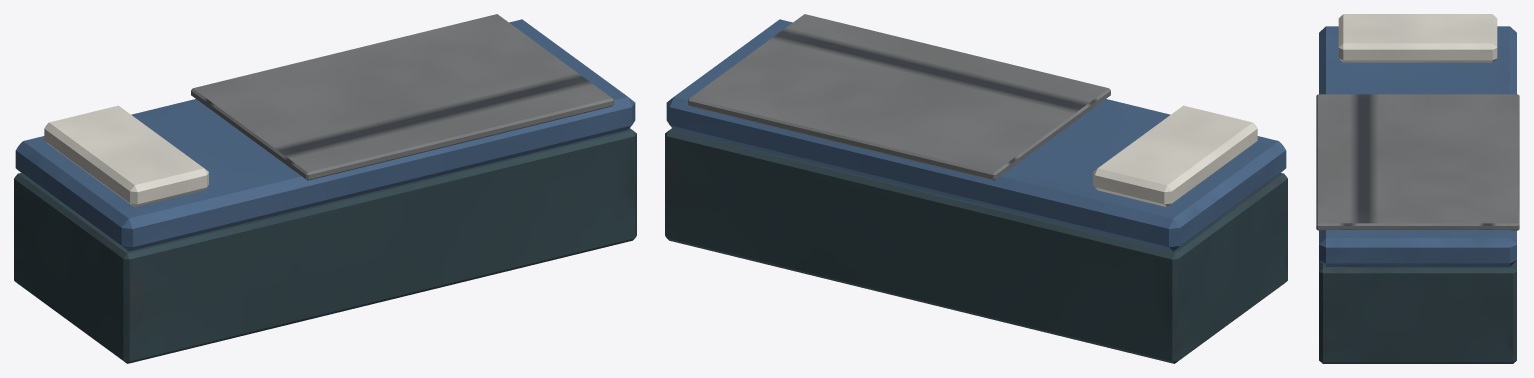
The model's file is bed_cell.fbx.
The picture shows the model from 3 angles, left to right: view 1: azimuth 30°, elevation 25°; view 2: azimuth 150°, elevation 25°; view 3: azimuth 270°, elevation 25°; orthographic projection. The views are drawn at different scales.
Visible parts, largest first — view 1: bed_cell; view 2: bed_cell; view 3: bed_cell.
Boxes of the visible parts, x1,y1,x2,y2 form: bed_cell: [14, 14, 636, 363]; bed_cell: [665, 14, 1287, 363]; bed_cell: [1316, 14, 1519, 363].
Bounding box in the file's own units: 1.95 × 0.6 × 0.77.
Materials: 1 (1 with a texture image).
